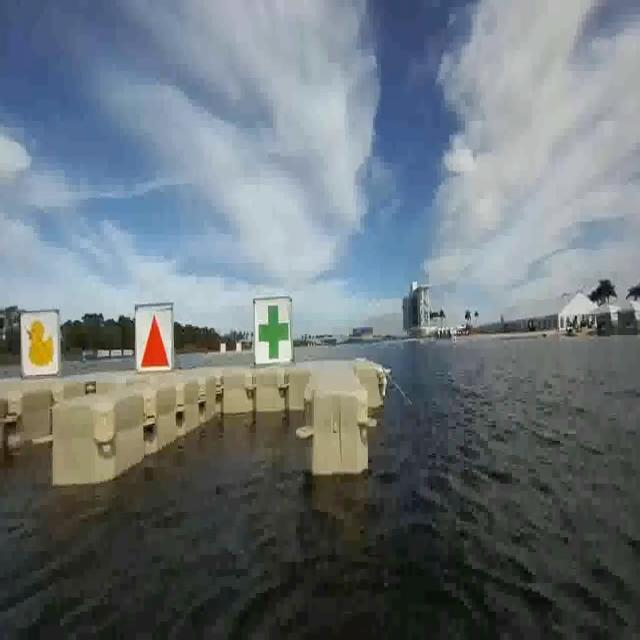blue-cross: (253, 295, 292, 364)
red-dot: (136, 304, 178, 375)
yellow-duck: (18, 311, 58, 378)
